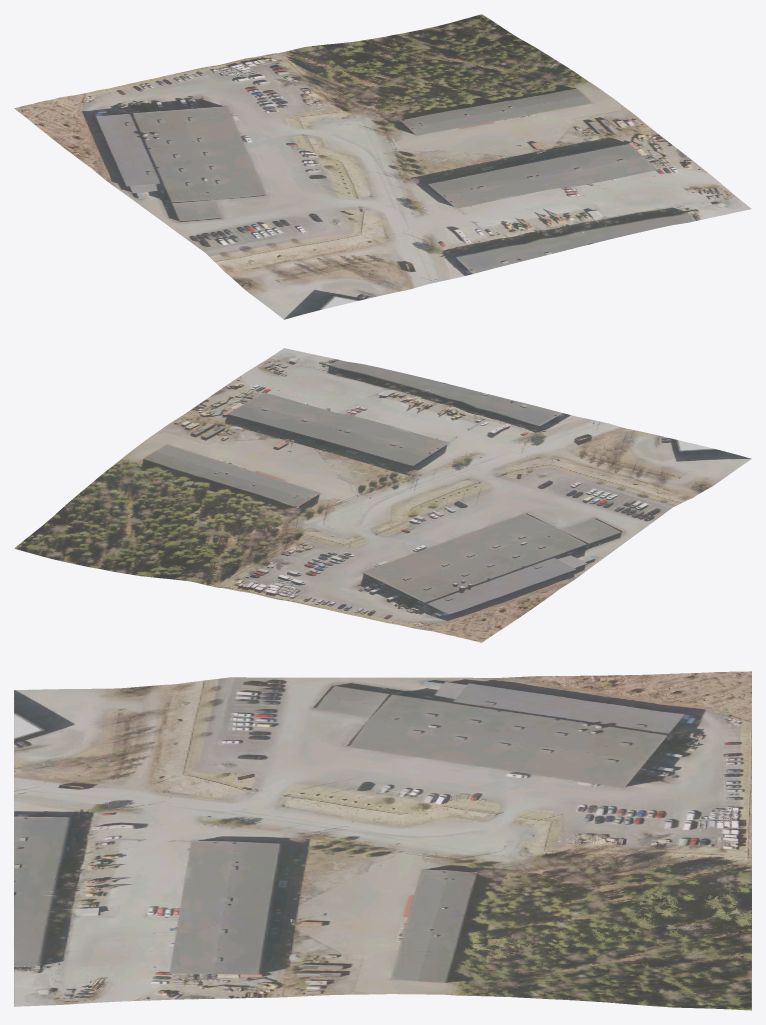
File: CM_Terrain_24493735_6816108.fbx
3 renders of one model, top to bottom at view 1: azimuth 30°, elevation 25°; view 2: azimuth 150°, elevation 25°; view 3: azimuth 270°, elevation 25°, orthographic. The views are drawn at different scales.
Visible parts, largest first — view 1: CM_Terrain_24493735_6816108_LOD0; view 2: CM_Terrain_24493735_6816108_LOD0; view 3: CM_Terrain_24493735_6816108_LOD0.
Boxes of the visible parts, <box> form: CM_Terrain_24493735_6816108_LOD0: <box>14,14,751,319</box>; CM_Terrain_24493735_6816108_LOD0: <box>14,348,751,642</box>; CM_Terrain_24493735_6816108_LOD0: <box>14,671,751,1010</box>.
Size of what is drawn, in the model's own units: 205 by 8.87 by 205.
